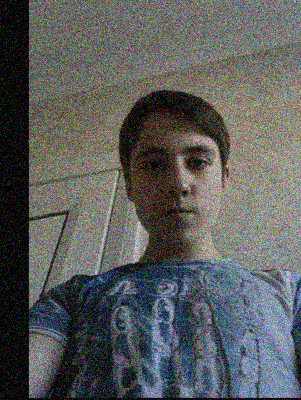without_mask: (130, 138, 221, 247)
